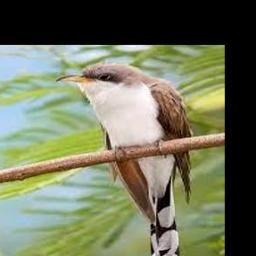Cuckoo: (56, 63, 193, 256)
